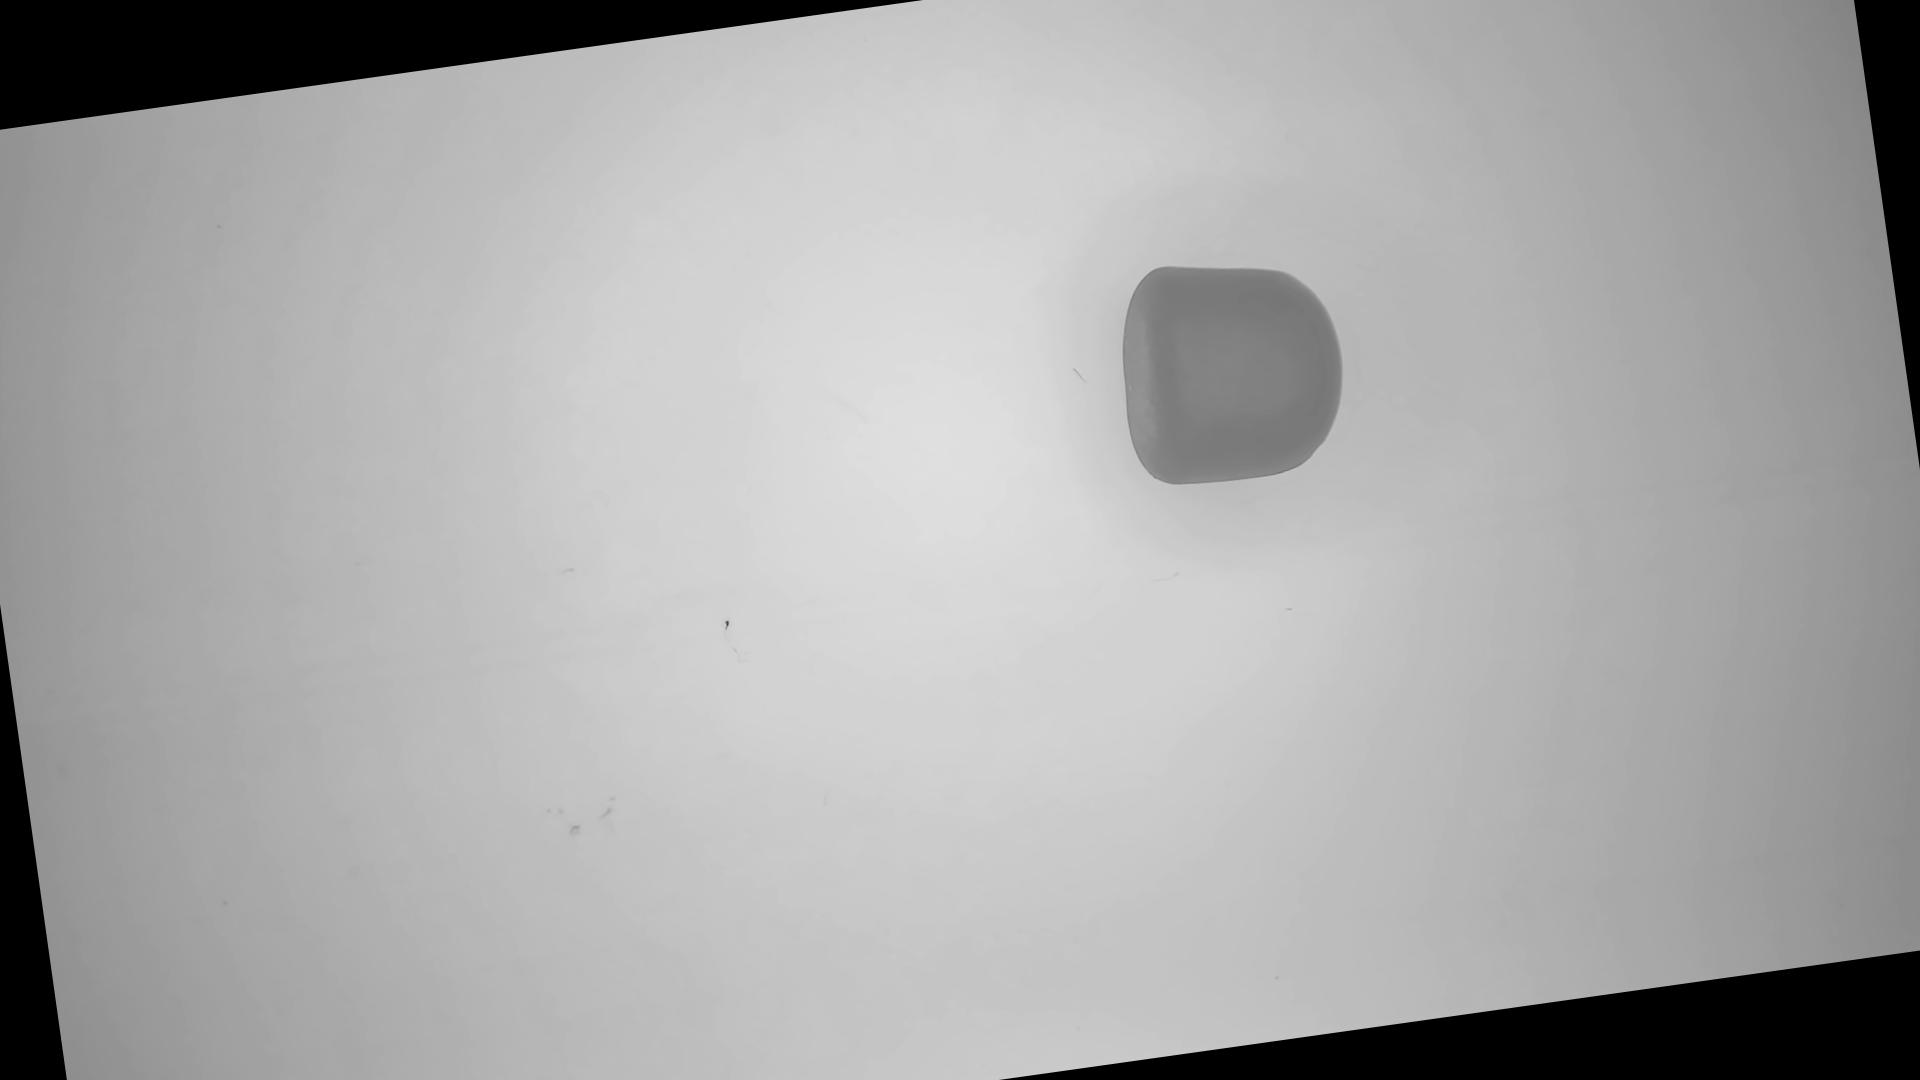normal: (1106, 243, 1360, 498)
